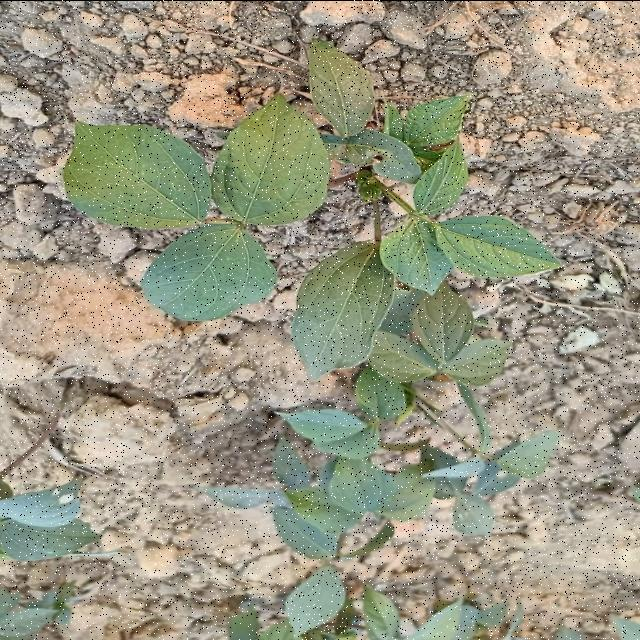plant: (61, 40, 559, 559)
